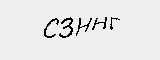Г: (108, 14, 121, 31)
З: (59, 15, 73, 41)
Н: (73, 12, 92, 37), (93, 15, 109, 34)
С: (42, 15, 60, 41)
